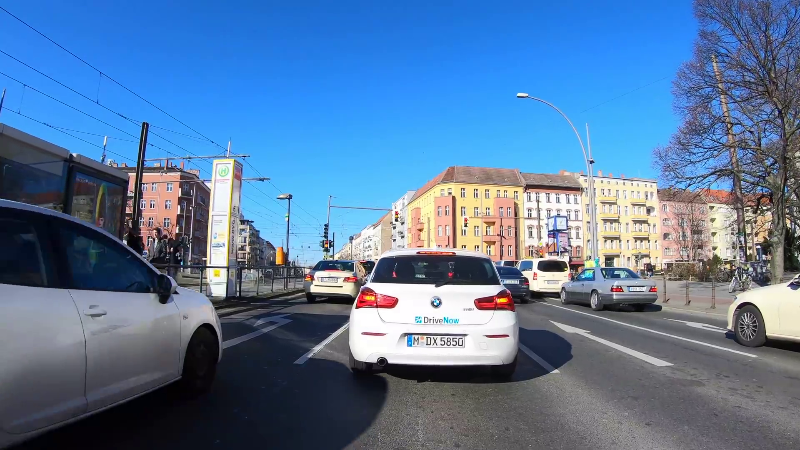Plate: (405, 332, 467, 348), (627, 284, 647, 292), (318, 276, 340, 283), (503, 278, 520, 284), (544, 279, 561, 285)
